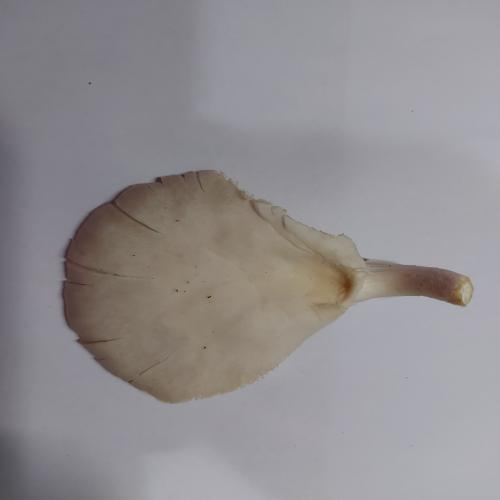Oyster Mushroom: (60, 168, 474, 404)
